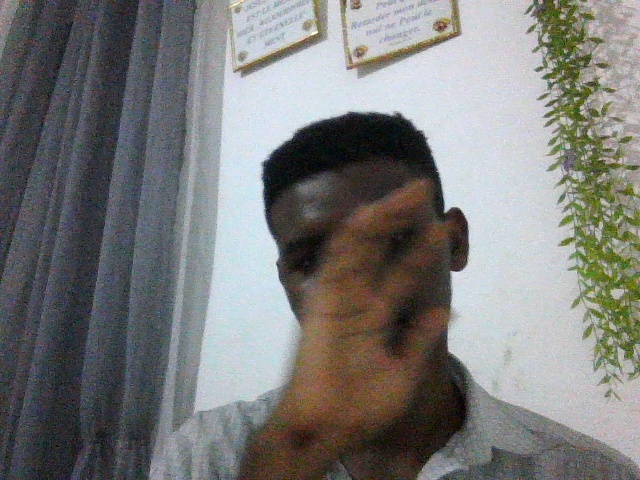hand: (291, 163, 466, 468)
